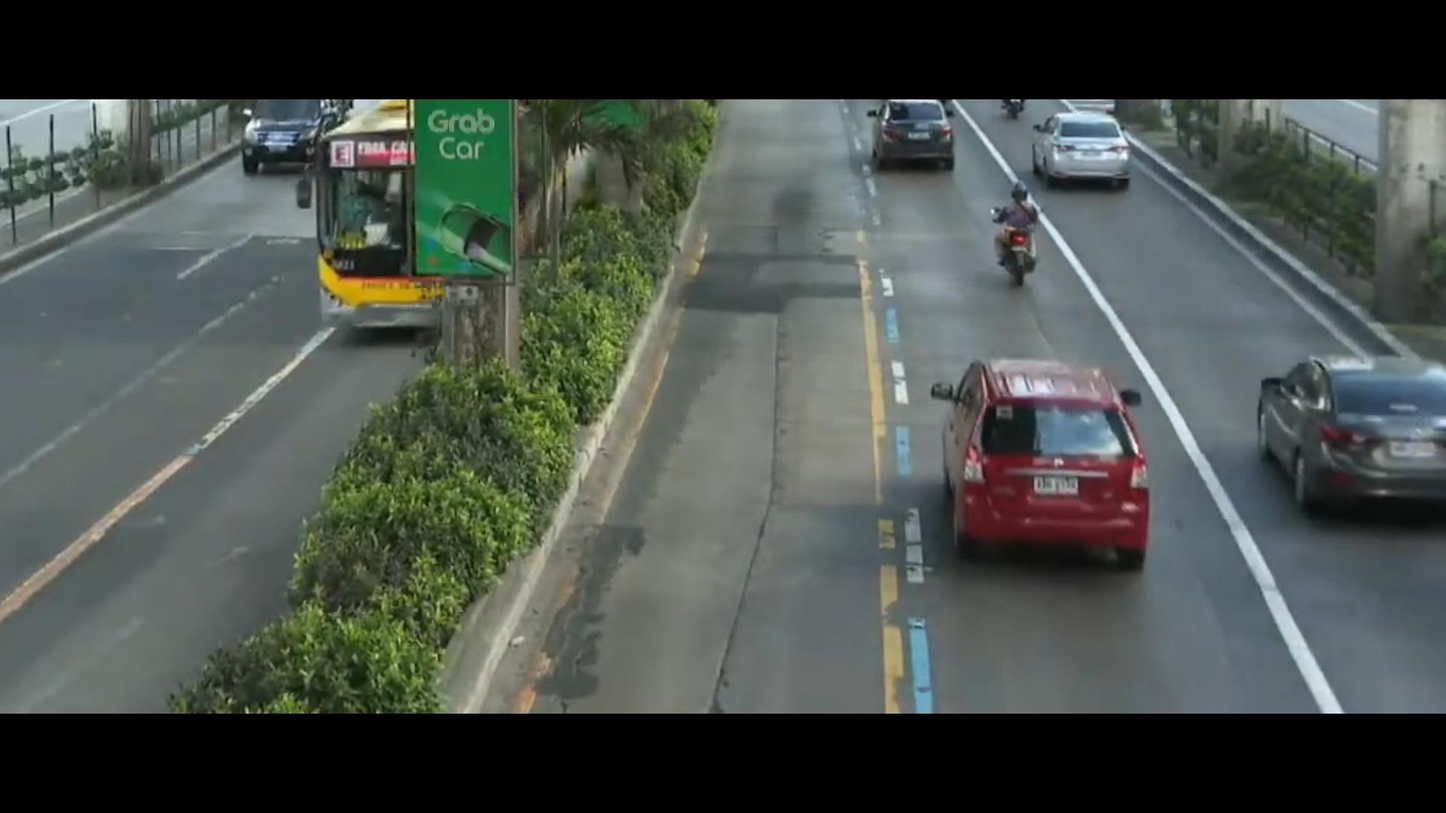Bus: (317, 105, 495, 356)
Motorcycle: (962, 187, 1055, 294)
SUV: (934, 337, 1171, 571), (224, 96, 348, 172)
Sedan: (1236, 332, 1446, 527), (1027, 104, 1134, 205), (868, 96, 961, 187)
